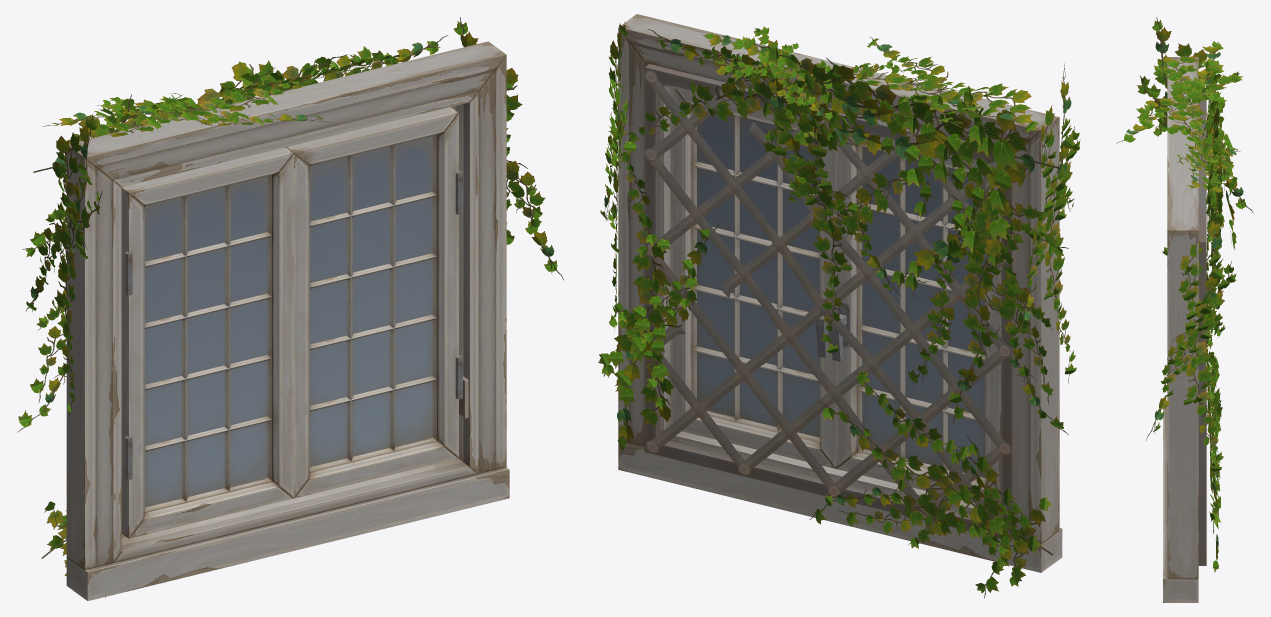
Rendered from P_Window_00179.obj.
The picture shows the model from 3 angles, left to right: view 1: azimuth 30°, elevation 25°; view 2: azimuth 150°, elevation 25°; view 3: azimuth 270°, elevation 25°; orthographic projection. The views are drawn at different scales.
Size of the model in its own units: 2.78 by 2.75 by 0.811.
16 materials, 16 textured.
